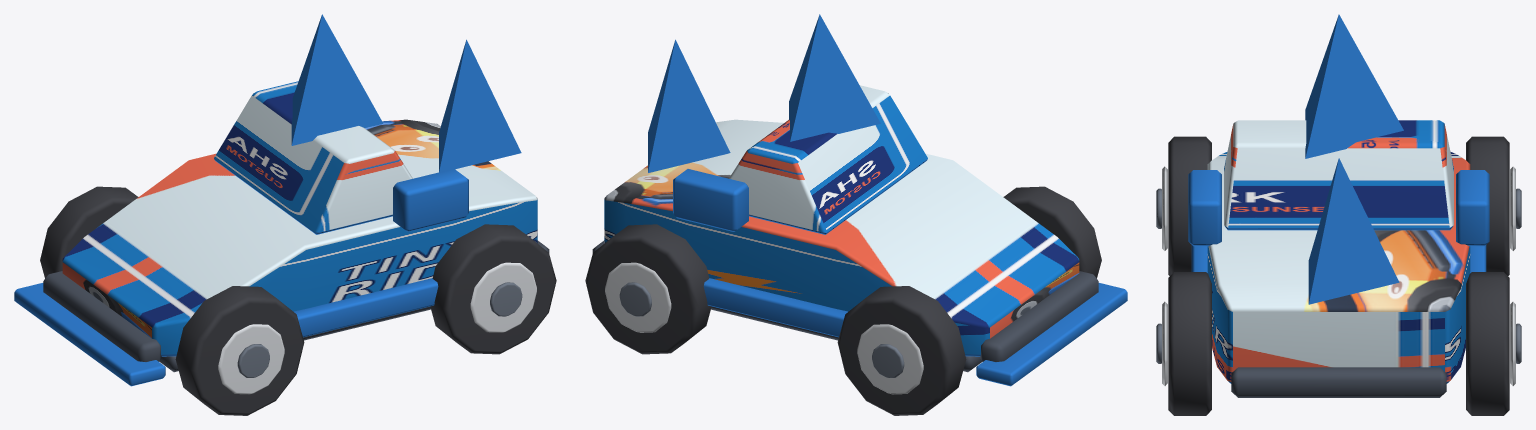
3 views of the same model, side by side, from view 1: azimuth 30°, elevation 25°; view 2: azimuth 150°, elevation 25°; view 3: azimuth 270°, elevation 25° (orthographic). The views are drawn at different scales.
Parts seen in each view (by area): view 1: CR-01_connected_shell, CR-01_cabin, Tire, Tire.002, dorsal fin, shark tail upper fin, custom chin, custom side guard, custom side fin, Tire.001, front bumper, Rim (+4 smaller); view 2: CR-01_connected_shell, CR-01_cabin, Tire.001, Tire.003, dorsal fin, shark tail upper fin, custom chin, custom side guard.001, custom side fin.001, Tire, front bumper, Rim.001 (+4 smaller); view 3: CR-01_connected_shell, CR-01_cabin, dorsal fin, shark tail upper fin, rear bumper, Tire.002, Tire.003, Tire, Tire.001, custom side fin, custom side fin.001, Rim (+5 smaller).
Boxes of the visible parts, x1,y1,x2,y2 form: CR-01_connected_shell: [62, 119, 537, 356]; CR-01_cabin: [214, 81, 412, 234]; Tire: [175, 286, 304, 415]; Tire.002: [430, 224, 556, 354]; dorsal fin: [291, 14, 383, 145]; shark tail upper fin: [439, 39, 521, 172]; custom chin: [14, 283, 165, 386]; custom side guard: [294, 278, 438, 337]; custom side fin: [393, 169, 468, 231]; Tire.001: [40, 186, 138, 278]; front bumper: [43, 271, 161, 361]; Rim: [218, 324, 284, 394]; CR-01_connected_shell: [604, 119, 1079, 356]; CR-01_cabin: [729, 85, 927, 234]; Tire.001: [837, 286, 966, 415]; Tire.003: [585, 224, 711, 354]; dorsal fin: [789, 14, 880, 141]; shark tail upper fin: [648, 39, 730, 172]; custom chin: [976, 283, 1127, 386]; custom side guard.001: [703, 278, 847, 337]; custom side fin.001: [673, 169, 748, 231]; Tire: [1003, 186, 1101, 278]; front bumper: [980, 271, 1098, 361]; Rim.001: [857, 324, 923, 394]; CR-01_connected_shell: [1207, 152, 1470, 383]; CR-01_cabin: [1224, 120, 1453, 230]; dorsal fin: [1305, 14, 1403, 158]; shark tail upper fin: [1308, 158, 1399, 304]; rear bumper: [1231, 367, 1446, 397]; Tire.002: [1168, 272, 1211, 415]; Tire.003: [1466, 272, 1509, 415]; Tire: [1168, 136, 1211, 275]; Tire.001: [1466, 136, 1509, 275]; custom side fin: [1188, 170, 1221, 246]; custom side fin.001: [1456, 170, 1489, 246]; Rim: [1162, 166, 1167, 250].
Size of the model in its own units: 329 by 224 by 217.
